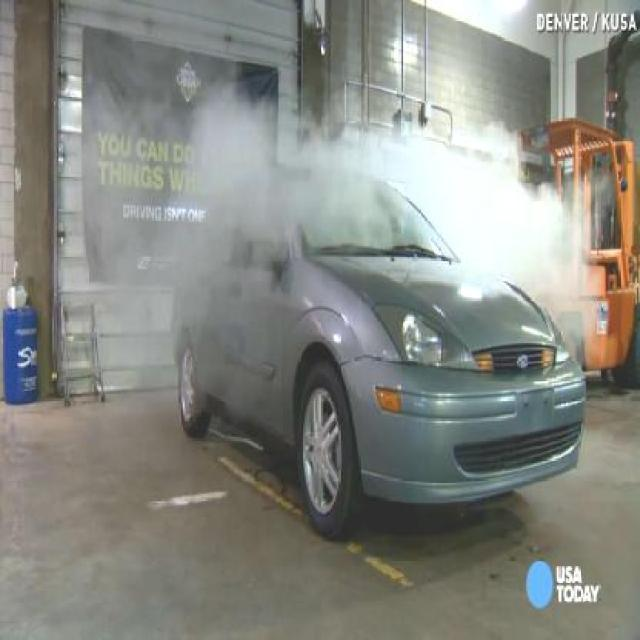Smoke: (80, 85, 604, 368)
